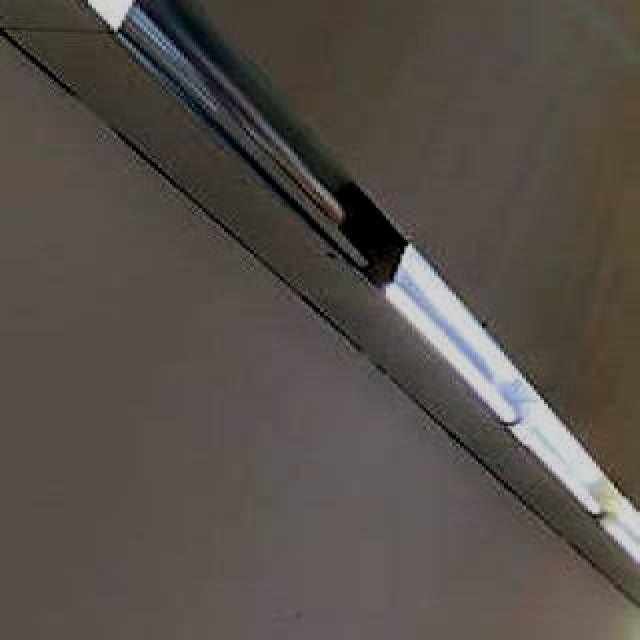fluorescent tube: (112, 0, 390, 280), (378, 265, 535, 427), (505, 405, 622, 522), (0, 0, 128, 18)
